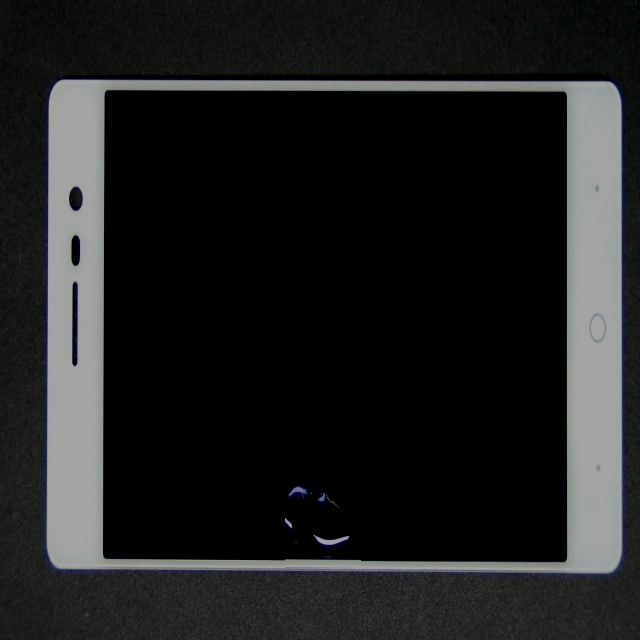oil: (167, 235, 457, 640)
